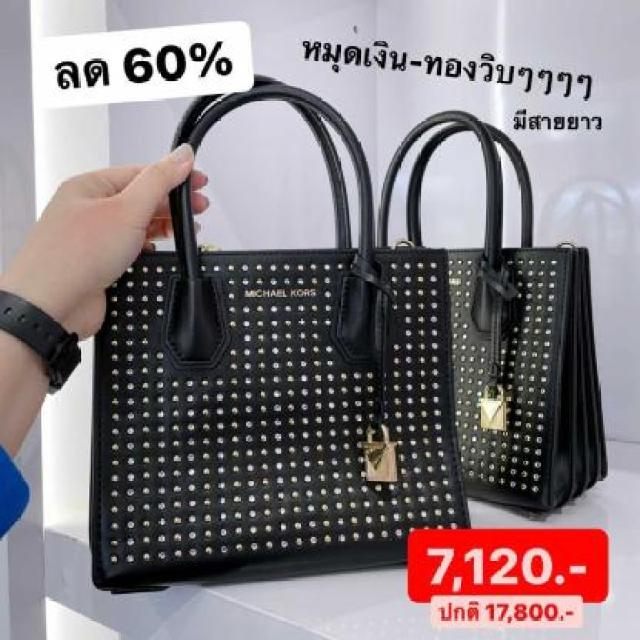Bag: (52, 55, 500, 594), (347, 86, 640, 512)
